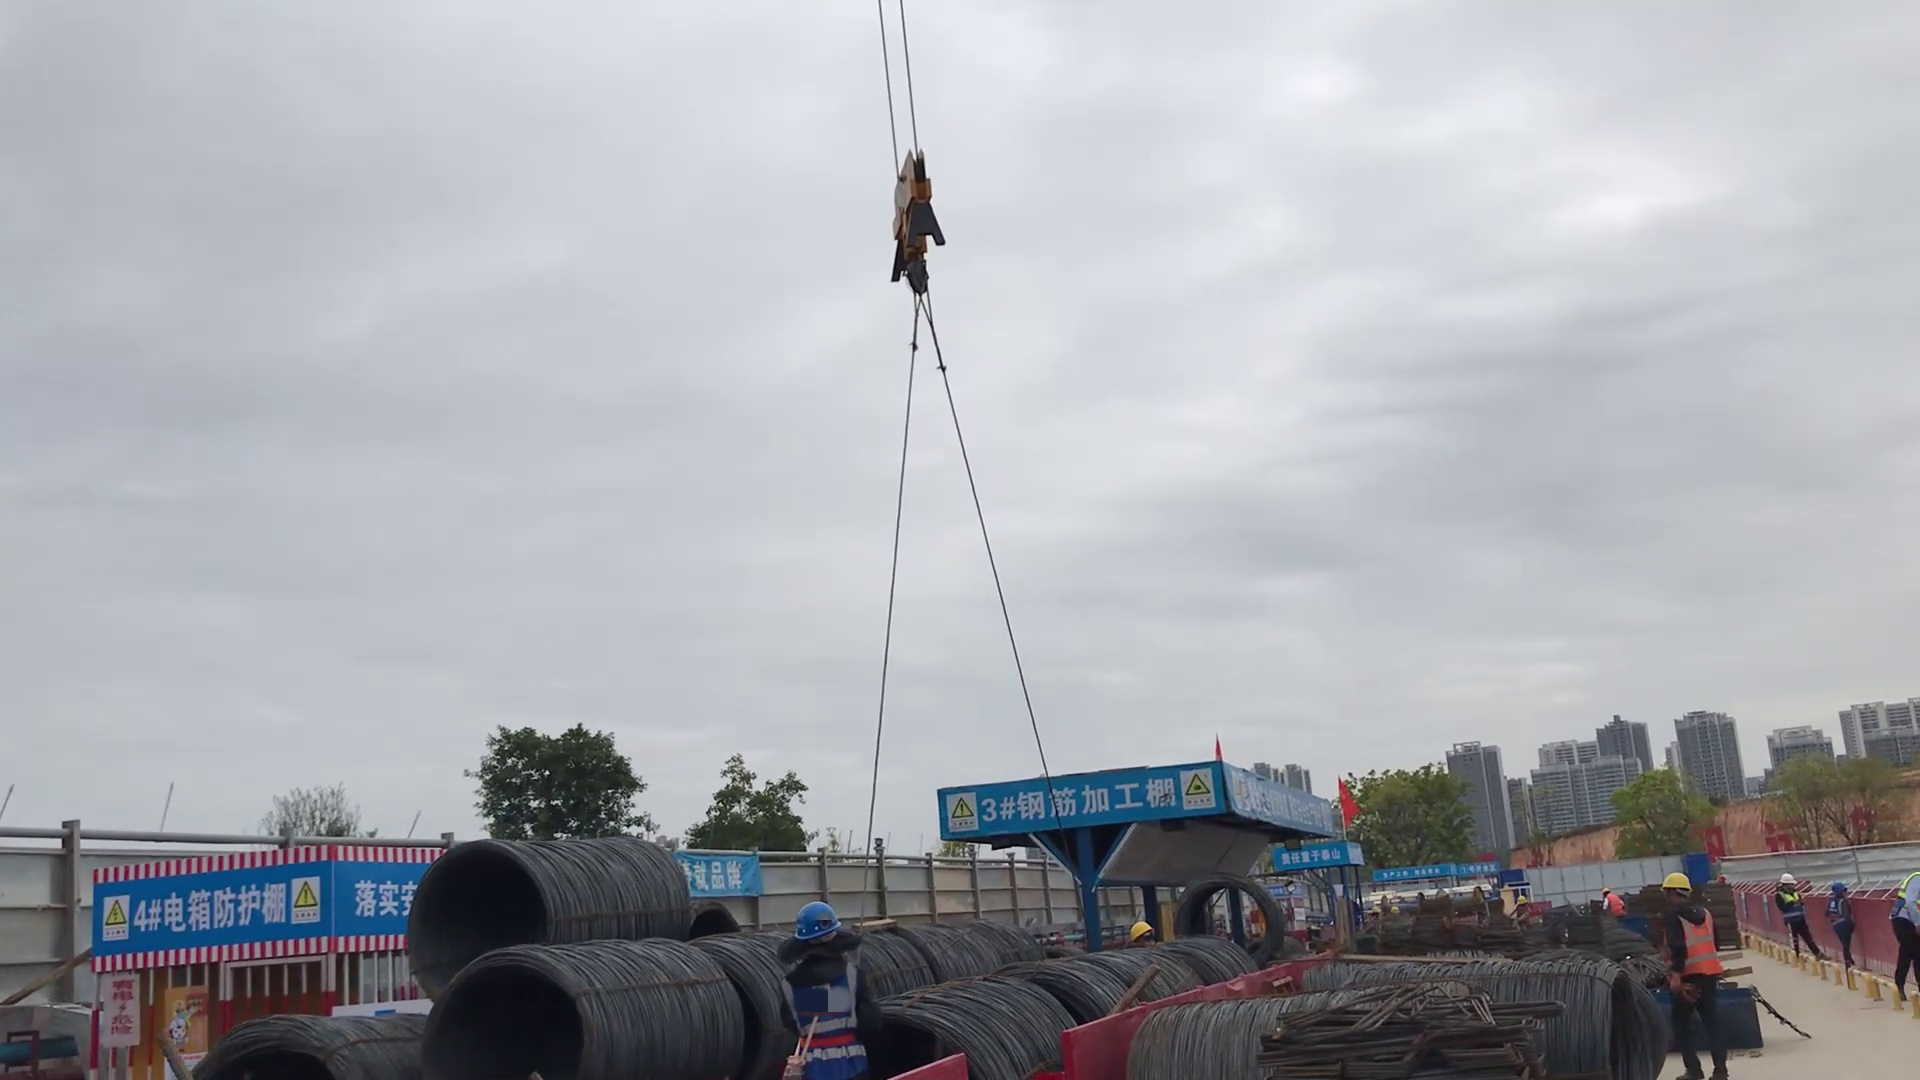helmet: (790, 908, 853, 936), (1656, 867, 1692, 885), (1129, 918, 1151, 939), (1779, 878, 1802, 889), (1832, 885, 1845, 897), (1597, 883, 1611, 893), (1373, 903, 1382, 915), (1390, 906, 1401, 912), (1518, 893, 1526, 901)
person: (786, 895, 871, 1078), (1658, 868, 1733, 1073), (1888, 860, 1920, 1004), (1771, 871, 1818, 962), (1822, 879, 1855, 966), (1123, 921, 1155, 947), (1599, 887, 1625, 916), (1509, 897, 1531, 924)
vest: (791, 953, 861, 1067), (1651, 900, 1725, 979), (1892, 870, 1918, 951), (1775, 888, 1801, 920), (1831, 899, 1848, 935), (1606, 893, 1627, 913), (1517, 906, 1533, 918)
